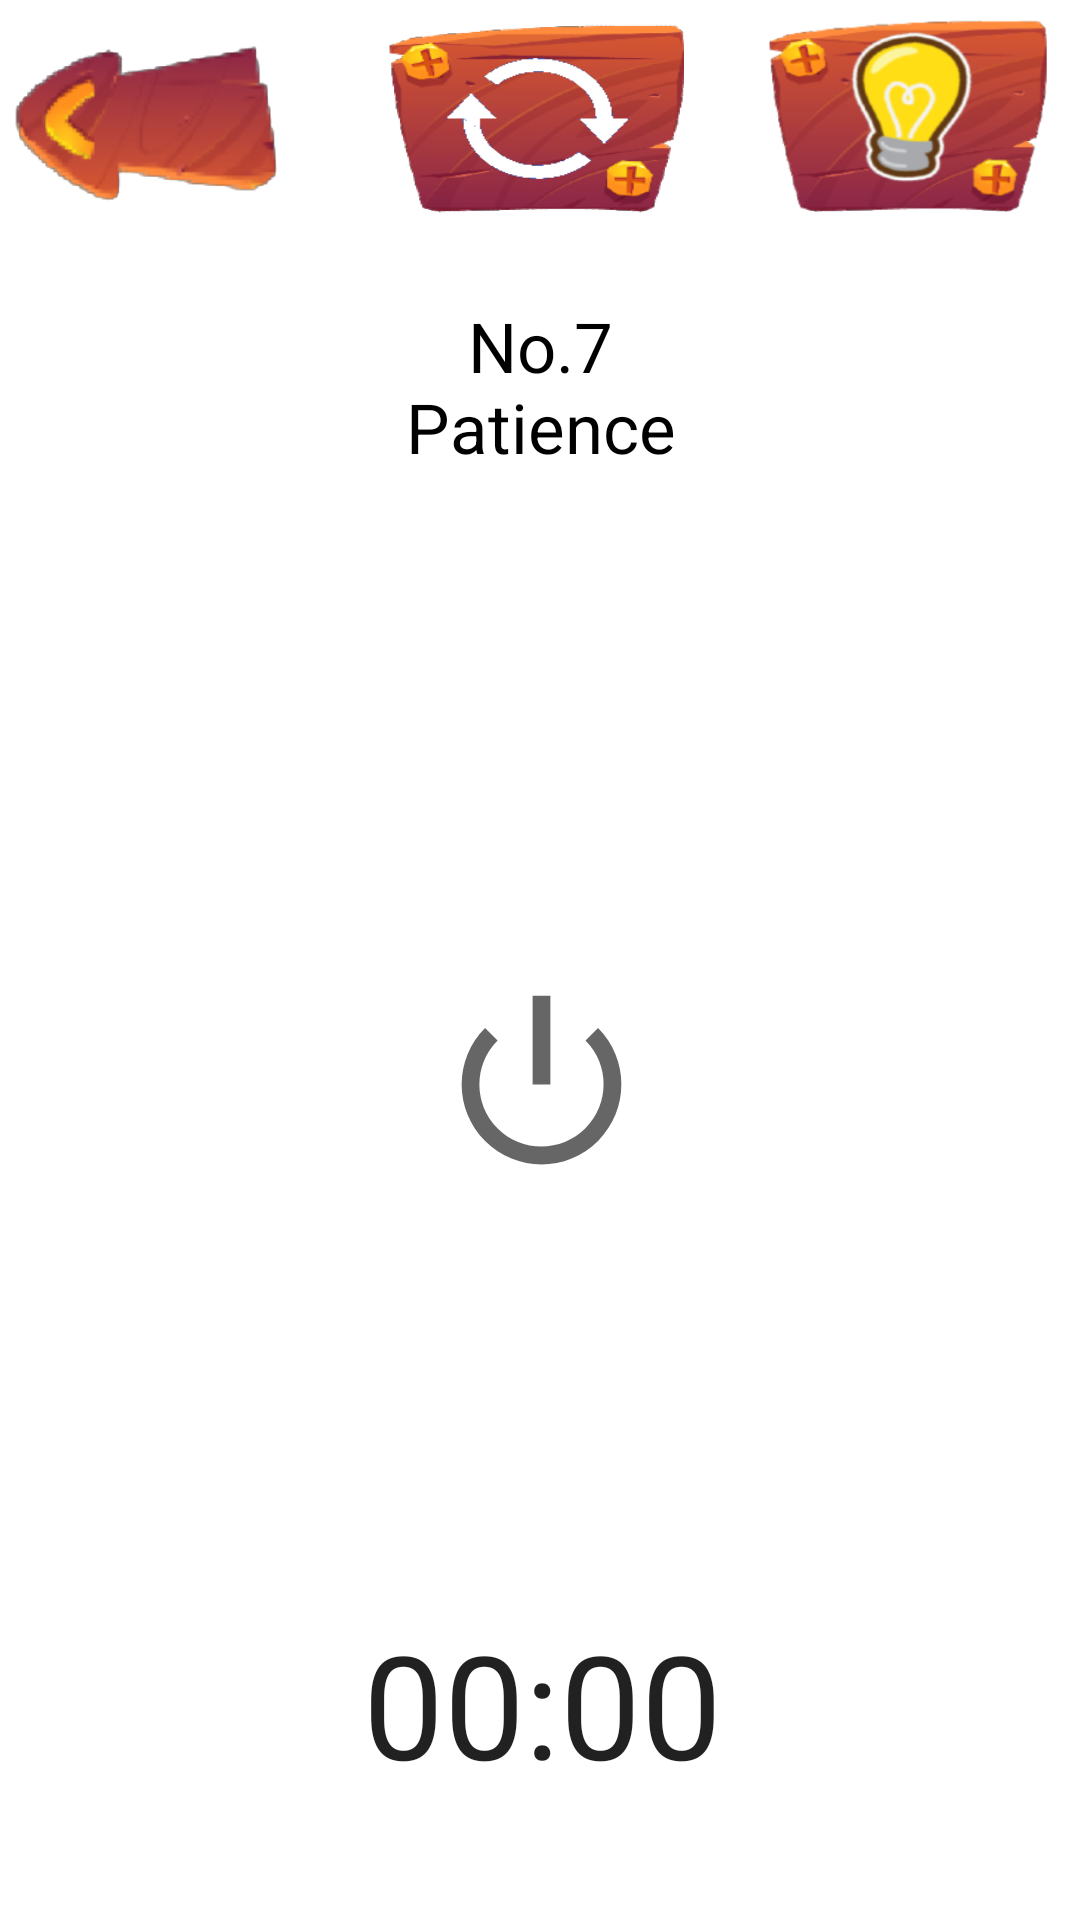

Named icons in this screenshot (1080px x 1920px) and their centers, point (x, y):
hint: point (908, 116)
lock power off: point (541, 1080)
restart: point (536, 119)
